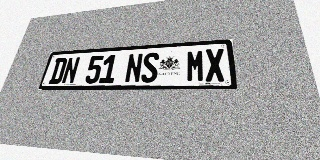1: (99, 55, 118, 83)
5: (84, 55, 104, 84)
D: (48, 58, 68, 84)
M: (186, 49, 205, 82)
N: (124, 53, 143, 83), (61, 57, 81, 84)
S: (140, 52, 159, 83)
X: (205, 48, 226, 82)
